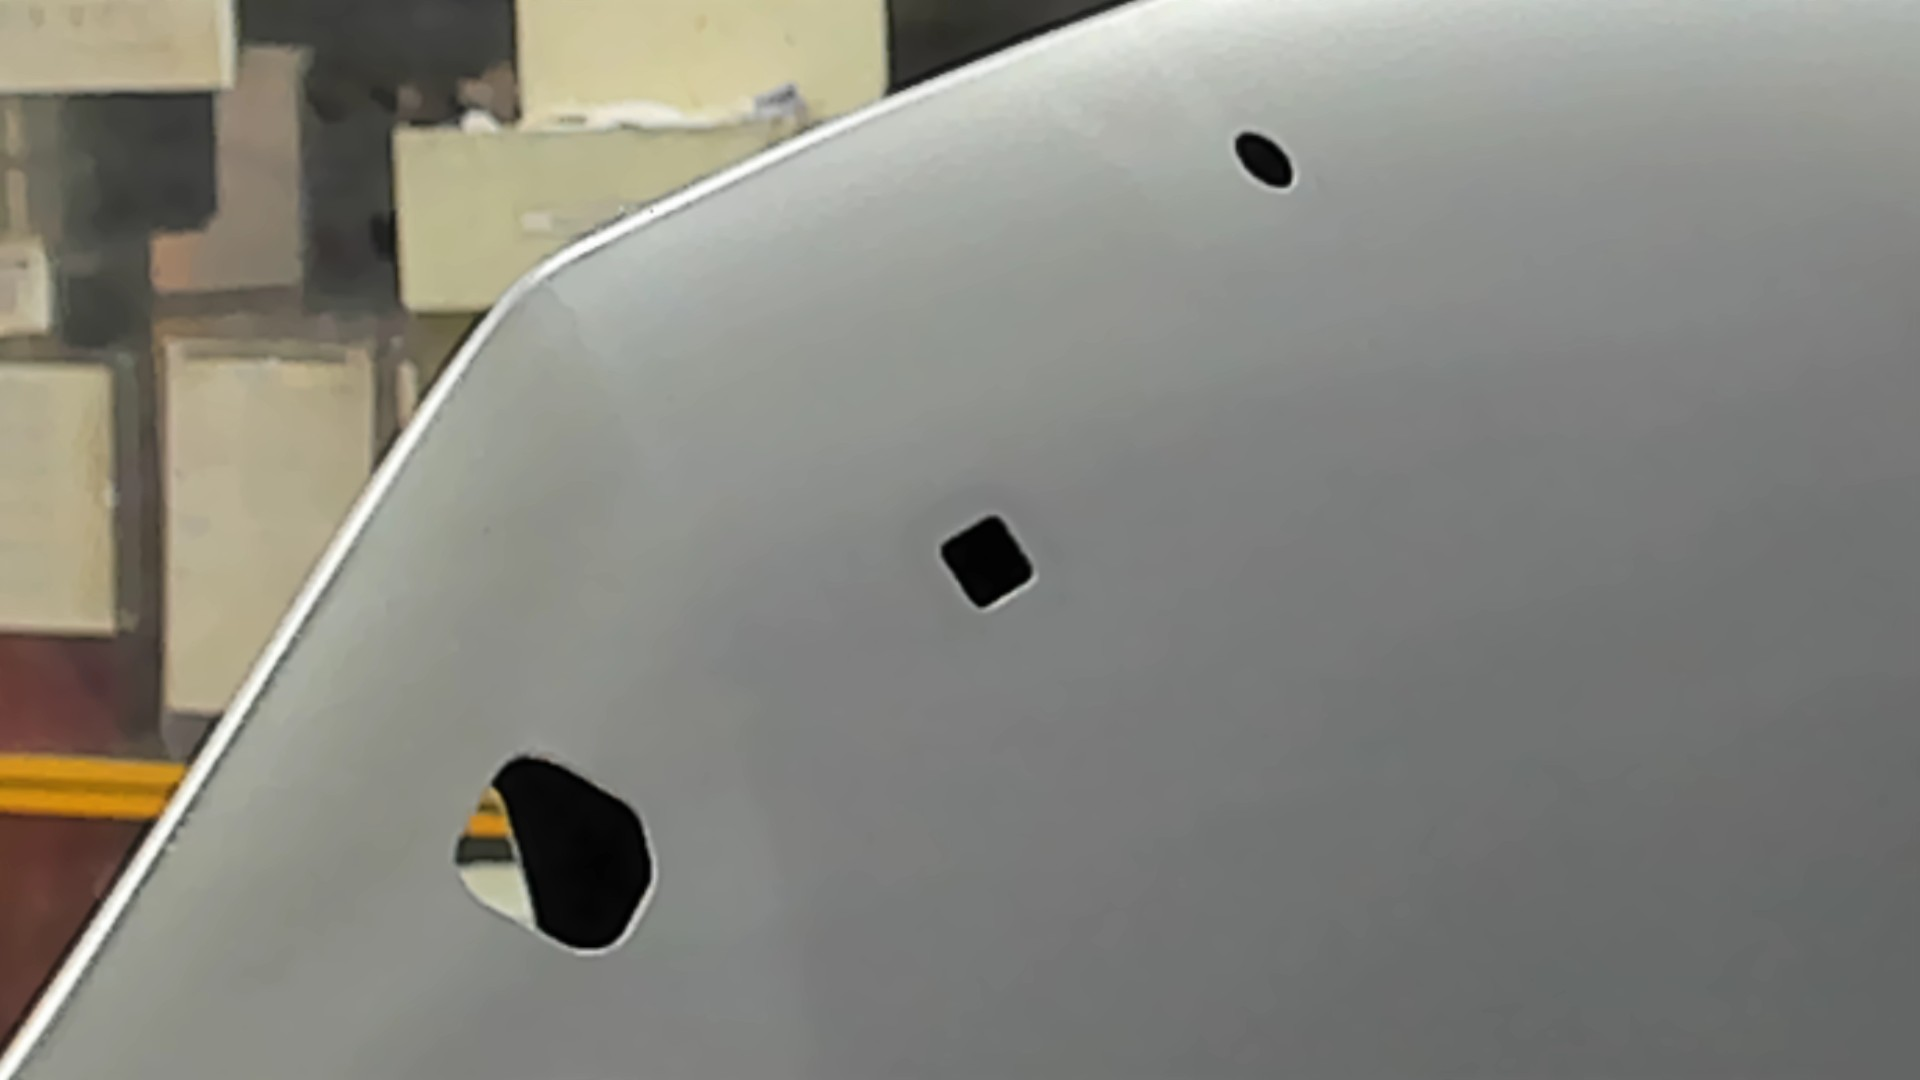chico: (1230, 128, 1298, 191)
grande: (450, 753, 665, 960)
mediano: (938, 512, 1038, 613)
